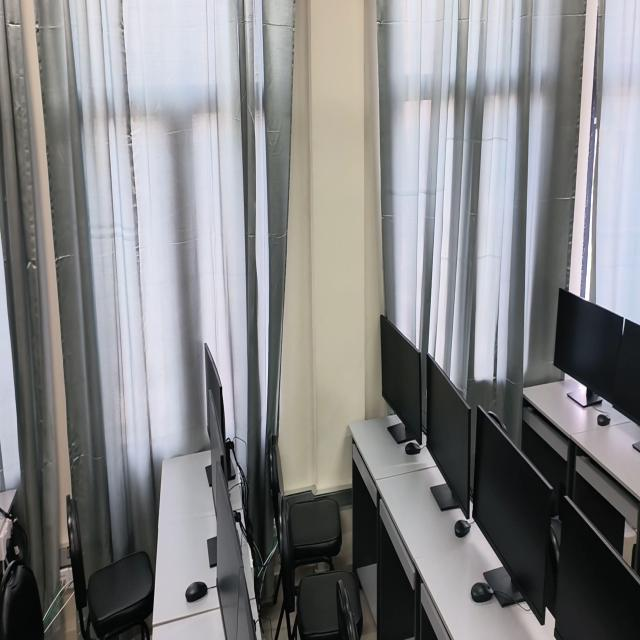Chair: (66, 495, 155, 639), (277, 500, 362, 639), (288, 498, 341, 567), (0, 560, 44, 639), (337, 580, 359, 639)
Monitor: (475, 408, 554, 624), (553, 497, 640, 639), (554, 289, 623, 407), (427, 354, 470, 517), (380, 316, 421, 442), (213, 461, 242, 639), (608, 319, 640, 425), (205, 343, 227, 479), (206, 360, 224, 507), (219, 466, 226, 480)
Mouse: (186, 581, 208, 602), (471, 583, 493, 603), (455, 520, 471, 537), (405, 441, 421, 455), (597, 413, 610, 425)
